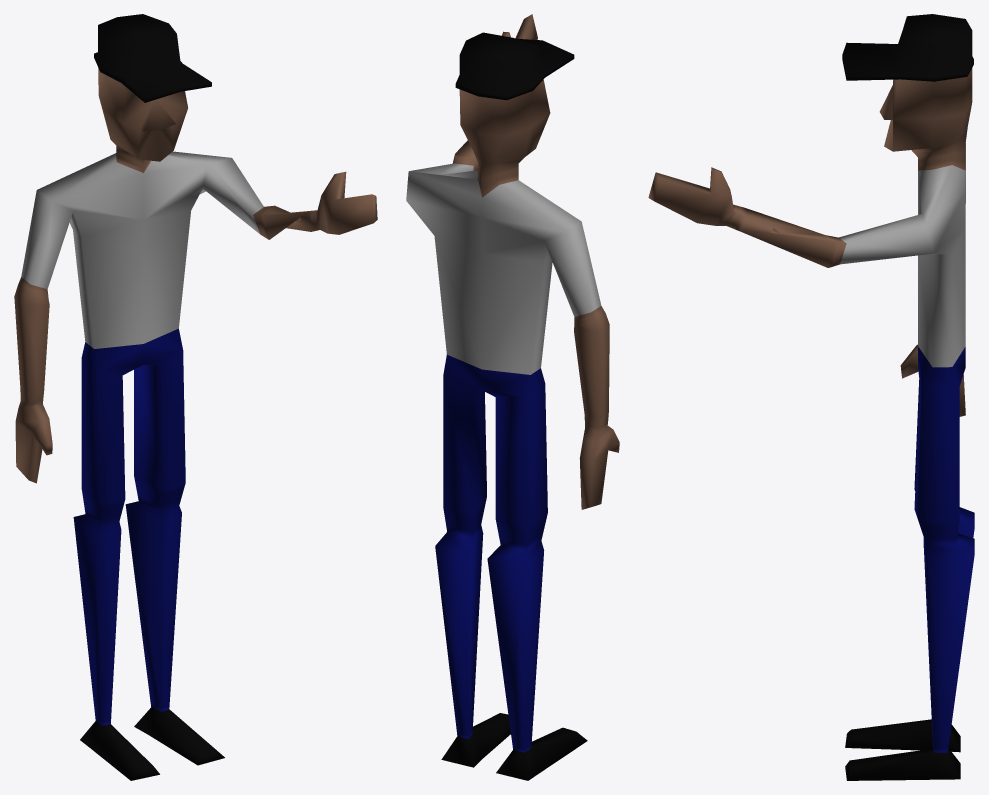
File: M_Passenger_Static.fbx
3 views of the same model, side by side, from view 1: azimuth 30°, elevation 25°; view 2: azimuth 150°, elevation 25°; view 3: azimuth 270°, elevation 25° (orthographic). The views are drawn at different scales.
Parts seen in each view (by area): view 1: Character1; view 2: Character1; view 3: Character1.
Part boxes in pixels (x1,y1,x2,y2): Character1: (14,14,377,780); Character1: (406,14,619,780); Character1: (648,14,974,780).
Bounding box in the file's own units: 16.11 × 49.98 × 20.3.
